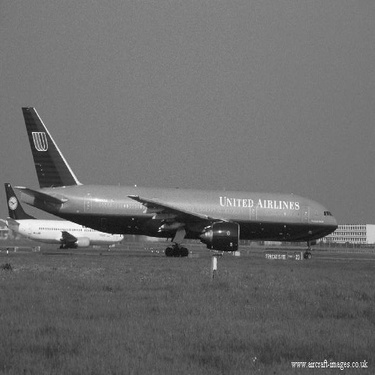airplane: (12, 85, 348, 269), (4, 172, 125, 261)
